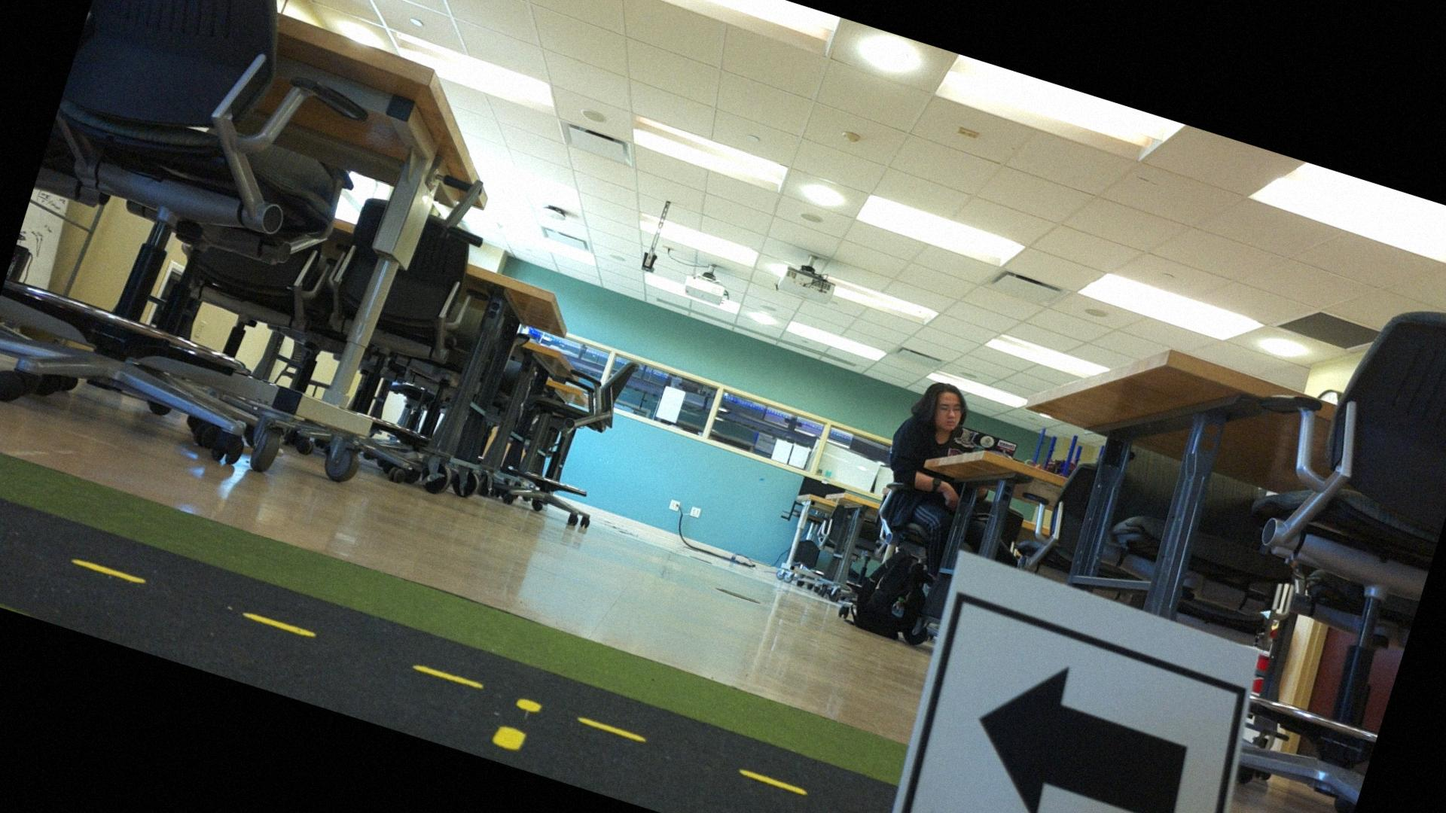turnright: (892, 607, 1245, 812)
yellowline: (0, 511, 811, 798), (487, 692, 543, 759)
